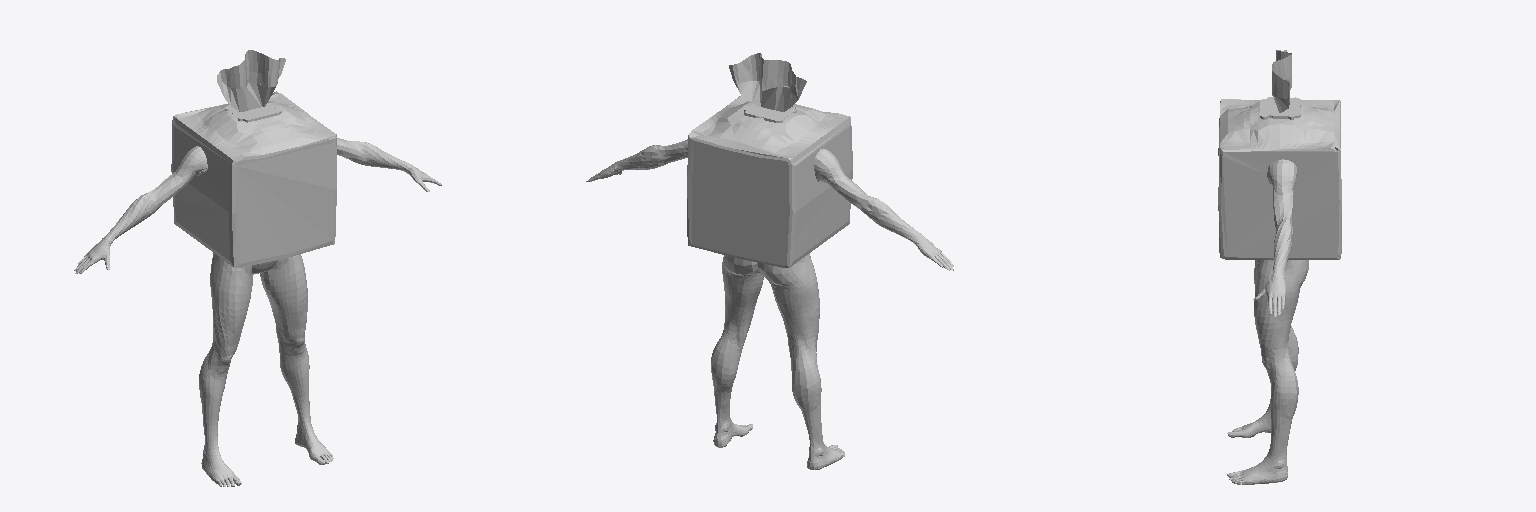
The model's file is jk_bread.obj.
3 views of the same model, side by side, from view 1: azimuth 30°, elevation 25°; view 2: azimuth 150°, elevation 25°; view 3: azimuth 270°, elevation 25° (orthographic).
Visible parts, largest first — view 1: Body_Body_Groups.002, Body.001_Body_Groups.003; view 2: Body_Body_Groups.002, Body.001_Body_Groups.003; view 3: Body_Body_Groups.002, Body.001_Body_Groups.003.
Boxes of the visible parts, x1,y1,x2,y2 form: Body_Body_Groups.002: [74, 50, 441, 486]; Body.001_Body_Groups.003: [225, 101, 281, 122]; Body_Body_Groups.002: [586, 53, 953, 469]; Body.001_Body_Groups.003: [744, 104, 796, 122]; Body_Body_Groups.002: [1218, 50, 1341, 484]; Body.001_Body_Groups.003: [1260, 97, 1300, 119].
Bounding box in the file's own units: 3.85 × 4.05 × 1.12.